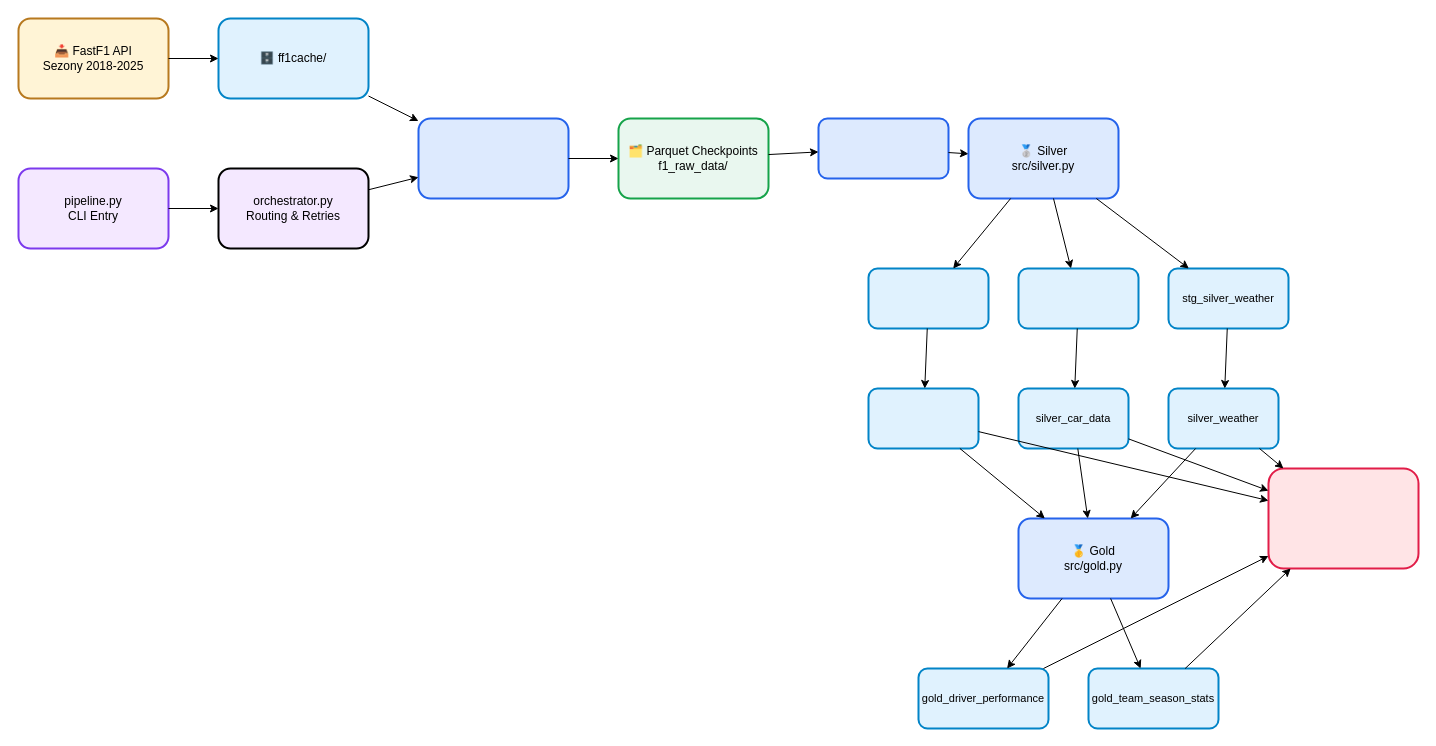
This 1436x746 diagram has some shape labels left out. Here are the shapes that lost their labels. From the top down, the box of each, then its label:
(417, 117, 569, 199): 🥉 Bronze src/download.py
(817, 117, 949, 179): ⚙️ SparkSession
(867, 267, 989, 329): stg_silver_laps
(1017, 267, 1139, 329): stg_silver_car
(867, 387, 979, 449): silver_laps
(1267, 467, 1419, 569): 📊 Analytics SQL/BI/Notebooks
